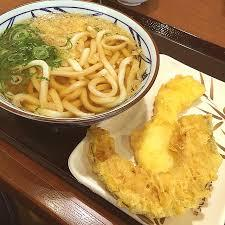pumpkin: (92, 128, 218, 218)
